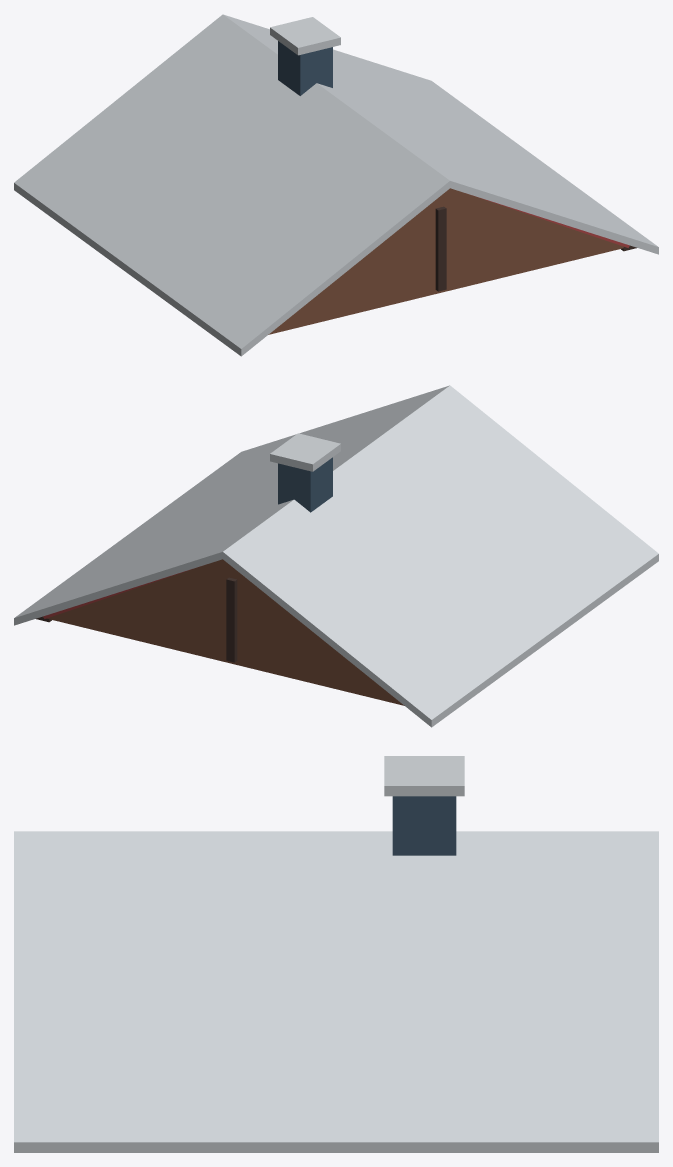
Rendered from Frosty_LodgeRoof_Showcase.glb.
The picture shows the model from 3 angles, top to bottom: view 1: azimuth 30°, elevation 25°; view 2: azimuth 150°, elevation 25°; view 3: azimuth 270°, elevation 25°; orthographic projection. The views are drawn at different scales.
Visible parts, largest first — view 1: Frosty_LodgeRoof_Showcase; view 2: Frosty_LodgeRoof_Showcase; view 3: Frosty_LodgeRoof_Showcase.
Boxes of the visible parts, x1,y1,x2,y2 form: Frosty_LodgeRoof_Showcase: (14, 14, 658, 356); Frosty_LodgeRoof_Showcase: (14, 385, 658, 727); Frosty_LodgeRoof_Showcase: (14, 756, 658, 1152).
Bounding box in the file's own units: 7 × 2.68 × 6.6.
